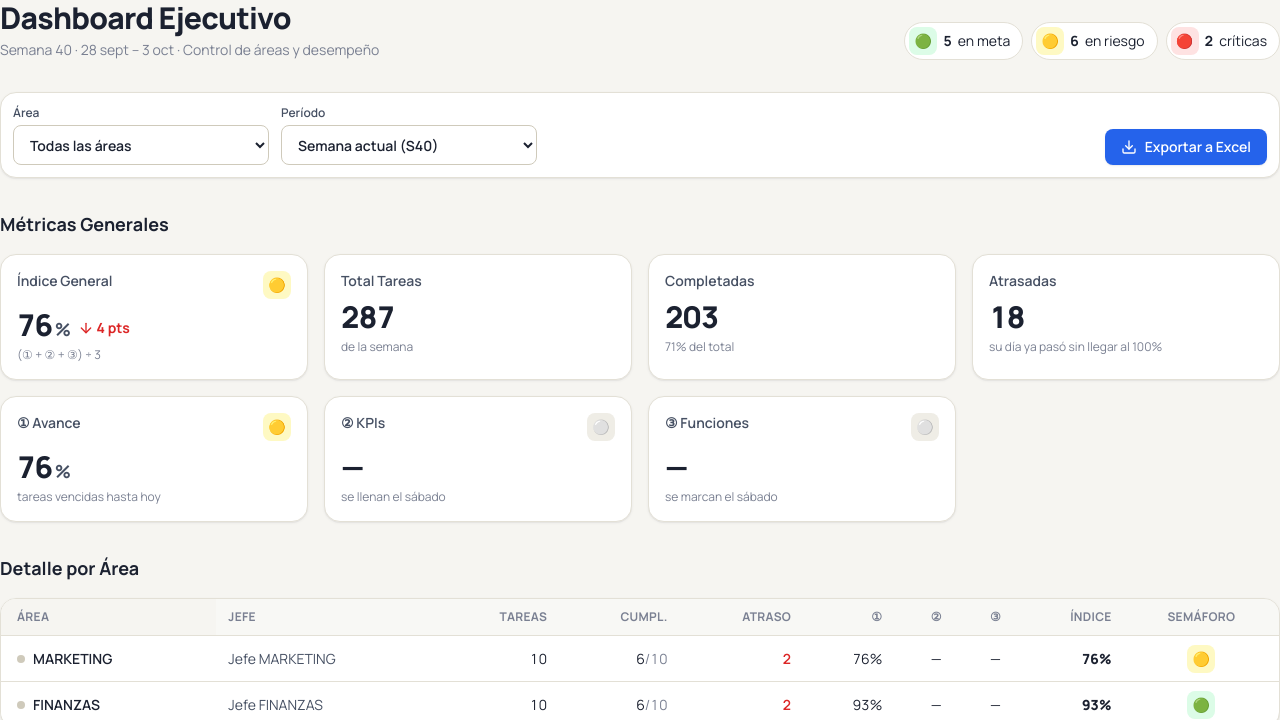
Test: DashboardPage › the area filter narrows table, cards and charts, and goes into the URL
Expected: the row "MARKETING Jefe MARKETING 10 6/10 2 76% — — 76% 🟡" is shown, [1,636,1279,682]
Select "FINANZAS" in the dropdown labelled "Área" at (141, 145), box [13,125,269,165]
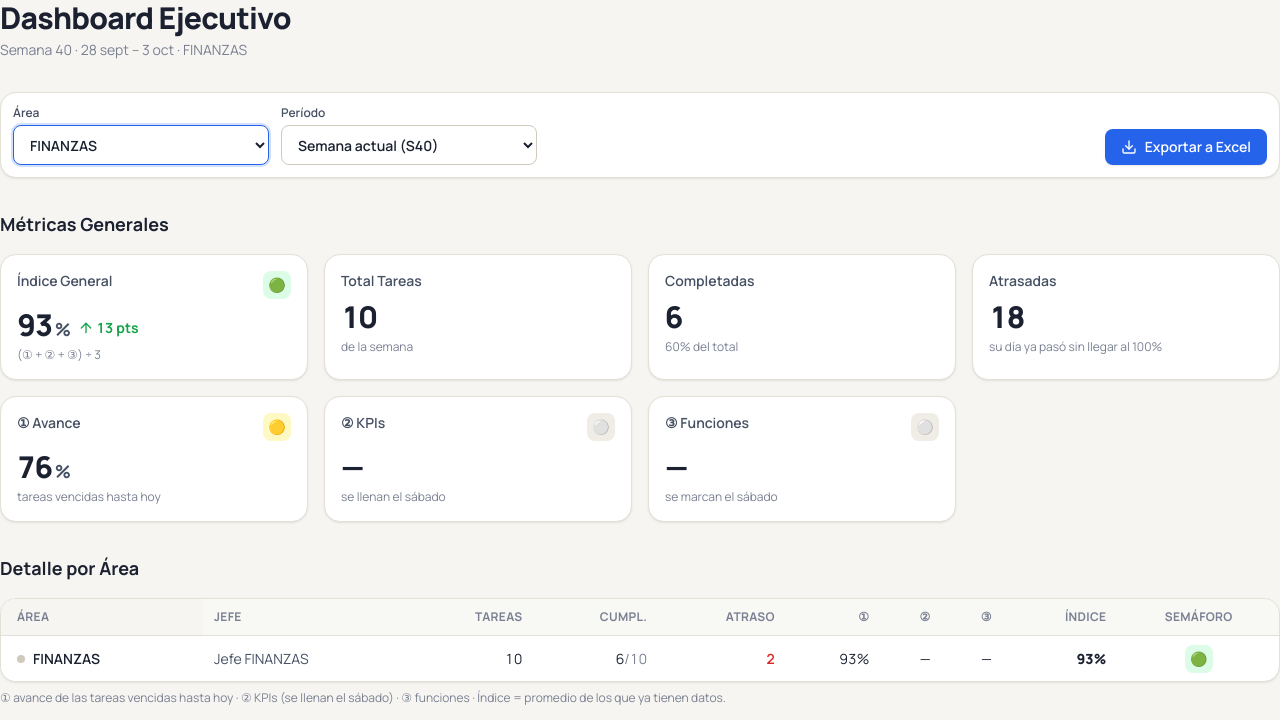
Expected: the row "FINANZAS Jefe FINANZAS 10 6/10 2 93% — — 93% 🟢" is shown, [1,636,1279,681]
Result: the button "MARKETING" is gone
